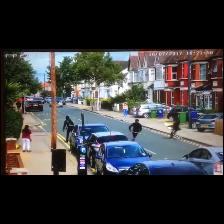person: (63, 116, 74, 142), (129, 119, 142, 141), (22, 124, 32, 152), (168, 118, 180, 139), (123, 103, 127, 116)
